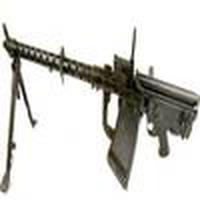gun: (1, 19, 200, 155)
